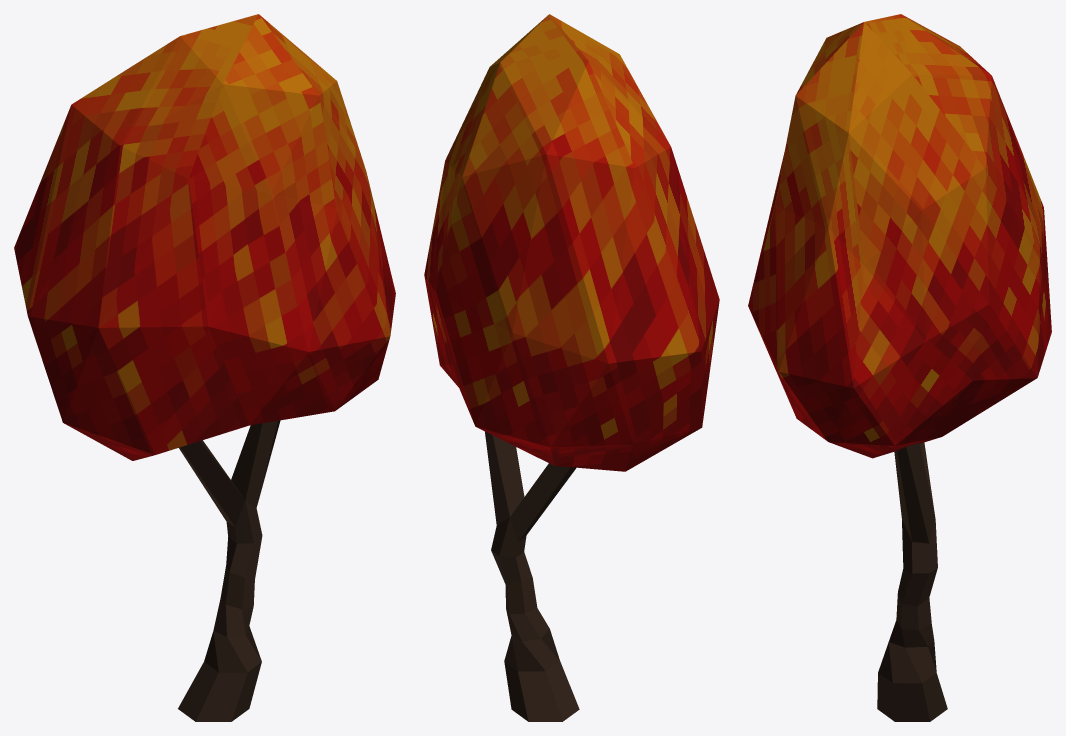
The model's file is tree2re.glb.
The picture shows the model from 3 angles, left to right: view 1: azimuth 30°, elevation 25°; view 2: azimuth 150°, elevation 25°; view 3: azimuth 270°, elevation 25°; orthographic projection. The views are drawn at different scales.
Parts seen in each view (by area): view 1: Icosphere, Cylinder; view 2: Icosphere, Cylinder; view 3: Icosphere, Cylinder.
Part boxes in pixels (x1=…): Icosphere: x1=14, y1=14, x2=395, y2=460; Cylinder: x1=178, y1=420, x2=280, y2=721; Icosphere: x1=424, y1=14, x2=719, y2=471; Cylinder: x1=485, y1=431, x2=579, y2=721; Icosphere: x1=748, y1=14, x2=1051, y2=458; Cylinder: x1=877, y1=442, x2=947, y2=721.
Size of the model in its own units: 10.54 by 21.81 by 8.62.
Materials: 2 (1 with a texture image).
